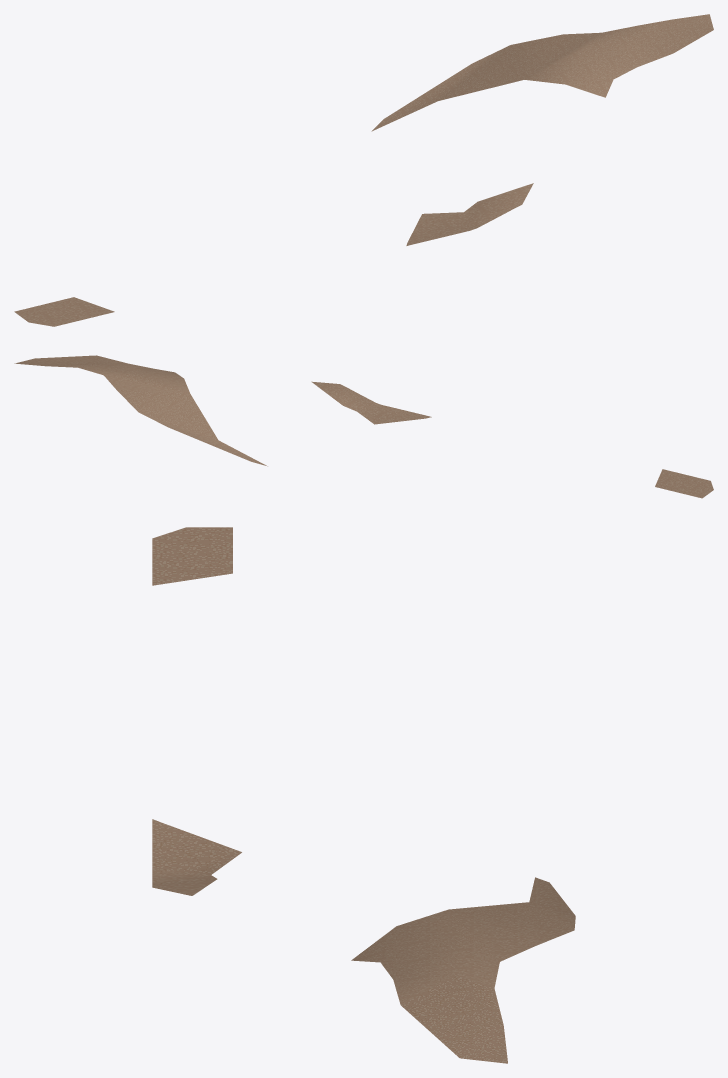
File: kd_stage_135fe0_0_5_bounded.glb
3 renders of one model, top to bottom at view 1: azimuth 30°, elevation 25°; view 2: azimuth 150°, elevation 25°; view 3: azimuth 270°, elevation 25°, orthographic. The views are drawn at different scales.
Parts seen in each view (by area): view 1: kd_stage_135fe0_0_5_bounded; view 2: kd_stage_135fe0_0_5_bounded; view 3: kd_stage_135fe0_0_5_bounded.
Boxes of the visible parts, x1,y1,x2,y2 form: kd_stage_135fe0_0_5_bounded: (14, 14, 713, 326); kd_stage_135fe0_0_5_bounded: (14, 355, 713, 498); kd_stage_135fe0_0_5_bounded: (152, 527, 575, 1063).
Size of the model in its own units: 82.89 by 6.03 by 24.54.
Materials: 1 (1 with a texture image).
